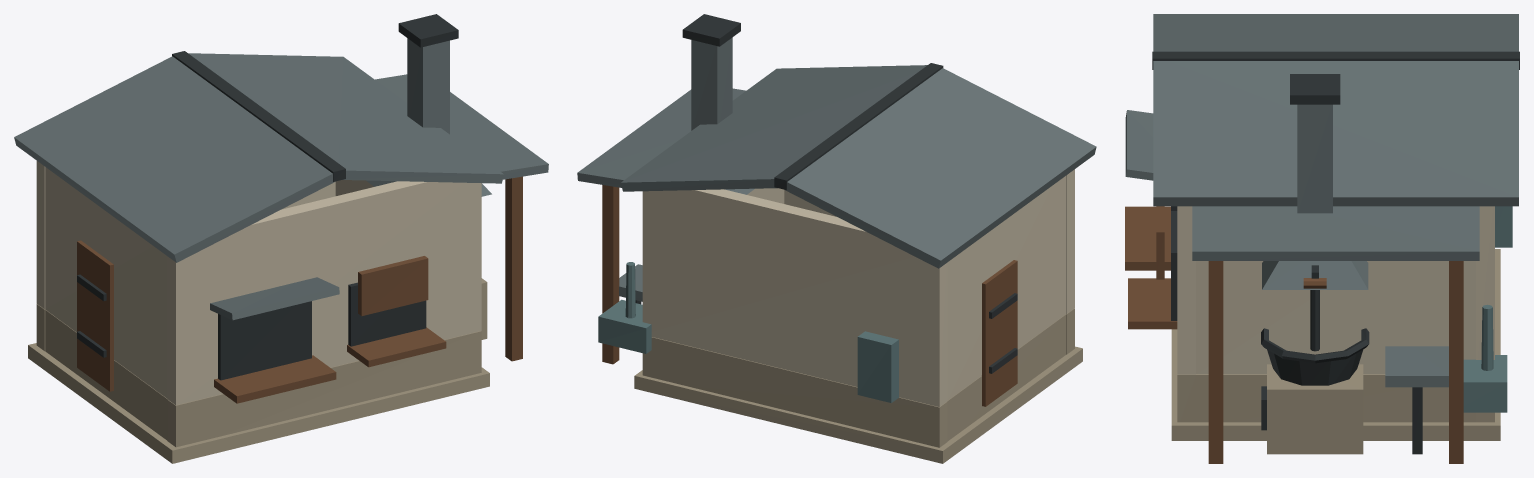
Rendered from preserve-kitchen.source.glb.
The picture shows the model from 3 angles, left to right: view 1: azimuth 30°, elevation 25°; view 2: azimuth 150°, elevation 25°; view 3: azimuth 270°, elevation 25°; orthographic projection. The views are drawn at different scales.
Visible parts, largest first — view 1: preserve-kitchen-front-plaster-wall-mesh, preserve-kitchen-left-roof-panel-mesh, preserve-kitchen-right-roof-panel-mesh, preserve-kitchen-left-plaster-wall-mesh, preserve-kitchen-front-stone-plinth-mesh, preserve-kitchen-foundation-slab-mesh, preserve-kitchen-produce-receiving-recess-mesh, preserve-kitchen-timber-service-door-mesh, preserve-kitchen-work-bay-canopy-mesh, preserve-kitchen-left-stone-plinth-mesh, preserve-kitchen-narrow-ventilation-chimney-mesh, preserve-kitchen-work-bay-post-1.15-mesh (+8 smaller); view 2: preserve-kitchen-rear-plaster-wall-mesh, preserve-kitchen-left-roof-panel-mesh, preserve-kitchen-right-roof-panel-mesh, preserve-kitchen-left-plaster-wall-mesh, preserve-kitchen-rear-stone-plinth-mesh, preserve-kitchen-foundation-slab-mesh, preserve-kitchen-work-bay-canopy-mesh, preserve-kitchen-timber-service-door-mesh, preserve-kitchen-left-stone-plinth-mesh, preserve-kitchen-narrow-ventilation-chimney-mesh, preserve-kitchen-fuel-power-service-box-mesh, preserve-kitchen-work-bay-post--1.15-mesh (+5 smaller); view 3: preserve-kitchen-right-roof-panel-mesh, preserve-kitchen-right-plaster-wall-mesh, preserve-kitchen-work-bay-canopy-mesh, preserve-kitchen-left-roof-panel-mesh, preserve-kitchen-masonry-kettle-stove-mesh, preserve-kitchen-right-stone-plinth-mesh, preserve-kitchen-foundation-slab-mesh, preserve-kitchen-narrow-ventilation-chimney-mesh, preserve-kitchen-roof-ridge-mesh, preserve-kitchen-work-bay-post-1.15-mesh, preserve-kitchen-front-plaster-wall-mesh, preserve-kitchen-work-bay-post--1.15-mesh (+17 smaller).
Part boxes in pixels (<box>): preserve-kitchen-front-plaster-wall-mesh: <box>167,181,481,405</box>; preserve-kitchen-left-roof-panel-mesh: <box>14,56,335,262</box>; preserve-kitchen-right-roof-panel-mesh: <box>188,53,503,183</box>; preserve-kitchen-left-plaster-wall-mesh: <box>45,167,167,398</box>; preserve-kitchen-front-stone-plinth-mesh: <box>167,331,481,447</box>; preserve-kitchen-foundation-slab-mesh: <box>28,343,489,463</box>; preserve-kitchen-produce-receiving-recess-mesh: <box>218,301,311,380</box>; preserve-kitchen-timber-service-door-mesh: <box>77,240,113,391</box>; preserve-kitchen-work-bay-canopy-mesh: <box>375,74,548,179</box>; preserve-kitchen-left-stone-plinth-mesh: <box>45,310,167,440</box>; preserve-kitchen-narrow-ventilation-chimney-mesh: <box>407,38,449,134</box>; preserve-kitchen-work-bay-post-1.15-mesh: <box>505,176,522,361</box>; preserve-kitchen-rear-plaster-wall-mesh: <box>642,189,947,406</box>; preserve-kitchen-left-roof-panel-mesh: <box>784,68,1096,268</box>; preserve-kitchen-right-roof-panel-mesh: <box>621,65,927,191</box>; preserve-kitchen-left-plaster-wall-mesh: <box>947,176,1066,400</box>; preserve-kitchen-rear-stone-plinth-mesh: <box>642,337,947,447</box>; preserve-kitchen-foundation-slab-mesh: <box>634,346,1082,463</box>; preserve-kitchen-work-bay-canopy-mesh: <box>577,88,745,187</box>; preserve-kitchen-timber-service-door-mesh: <box>982,260,1017,406</box>; preserve-kitchen-left-stone-plinth-mesh: <box>947,314,1066,440</box>; preserve-kitchen-narrow-ventilation-chimney-mesh: <box>691,37,732,130</box>; preserve-kitchen-fuel-power-service-box-mesh: <box>857,331,898,402</box>; preserve-kitchen-work-bay-post--1.15-mesh: <box>602,185,619,364</box>; preserve-kitchen-right-roof-panel-mesh: <box>1153,61,1518,206</box>; preserve-kitchen-right-plaster-wall-mesh: <box>1196,261,1475,374</box>; preserve-kitchen-work-bay-canopy-mesh: <box>1192,206,1479,260</box>; preserve-kitchen-left-roof-panel-mesh: <box>1153,14,1518,51</box>; preserve-kitchen-masonry-kettle-stove-mesh: <box>1267,364,1363,454</box>; preserve-kitchen-right-stone-plinth-mesh: <box>1196,374,1475,422</box>; preserve-kitchen-foundation-slab-mesh: <box>1171,249,1500,440</box>; preserve-kitchen-narrow-ventilation-chimney-mesh: <box>1297,104,1332,213</box>; preserve-kitchen-roof-ridge-mesh: <box>1152,51,1519,69</box>; preserve-kitchen-work-bay-post-1.15-mesh: <box>1208,261,1223,463</box>; preserve-kitchen-front-plaster-wall-mesh: <box>1177,206,1195,374</box>; preserve-kitchen-work-bay-post--1.15-mesh: <box>1449,261,1463,463</box>.
Size of the model in its own units: 4.93 by 3.77 by 3.78.
